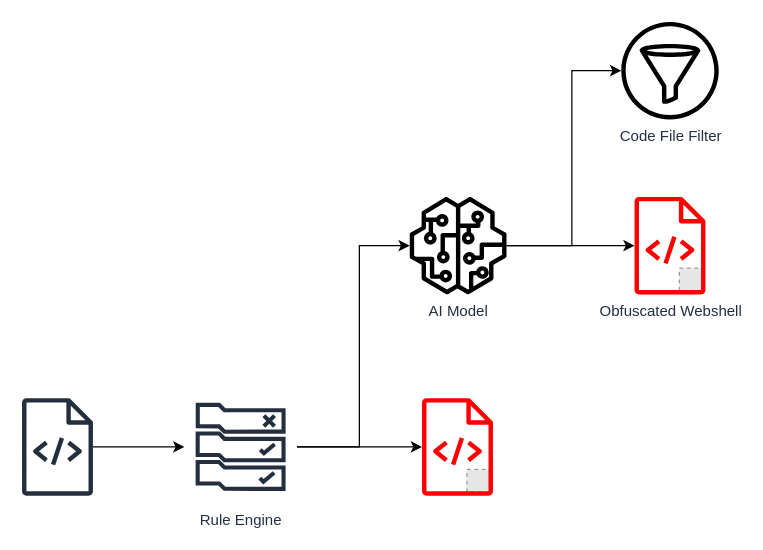
The diagram is 763 pixels wide and 550 high, and some of its shapes have lost their labels. Grey dashed boxes stand in for pictures. Each missing label, with the centre of its shape:
Code File: point (56, 446)
Webshell: point (456, 446)
